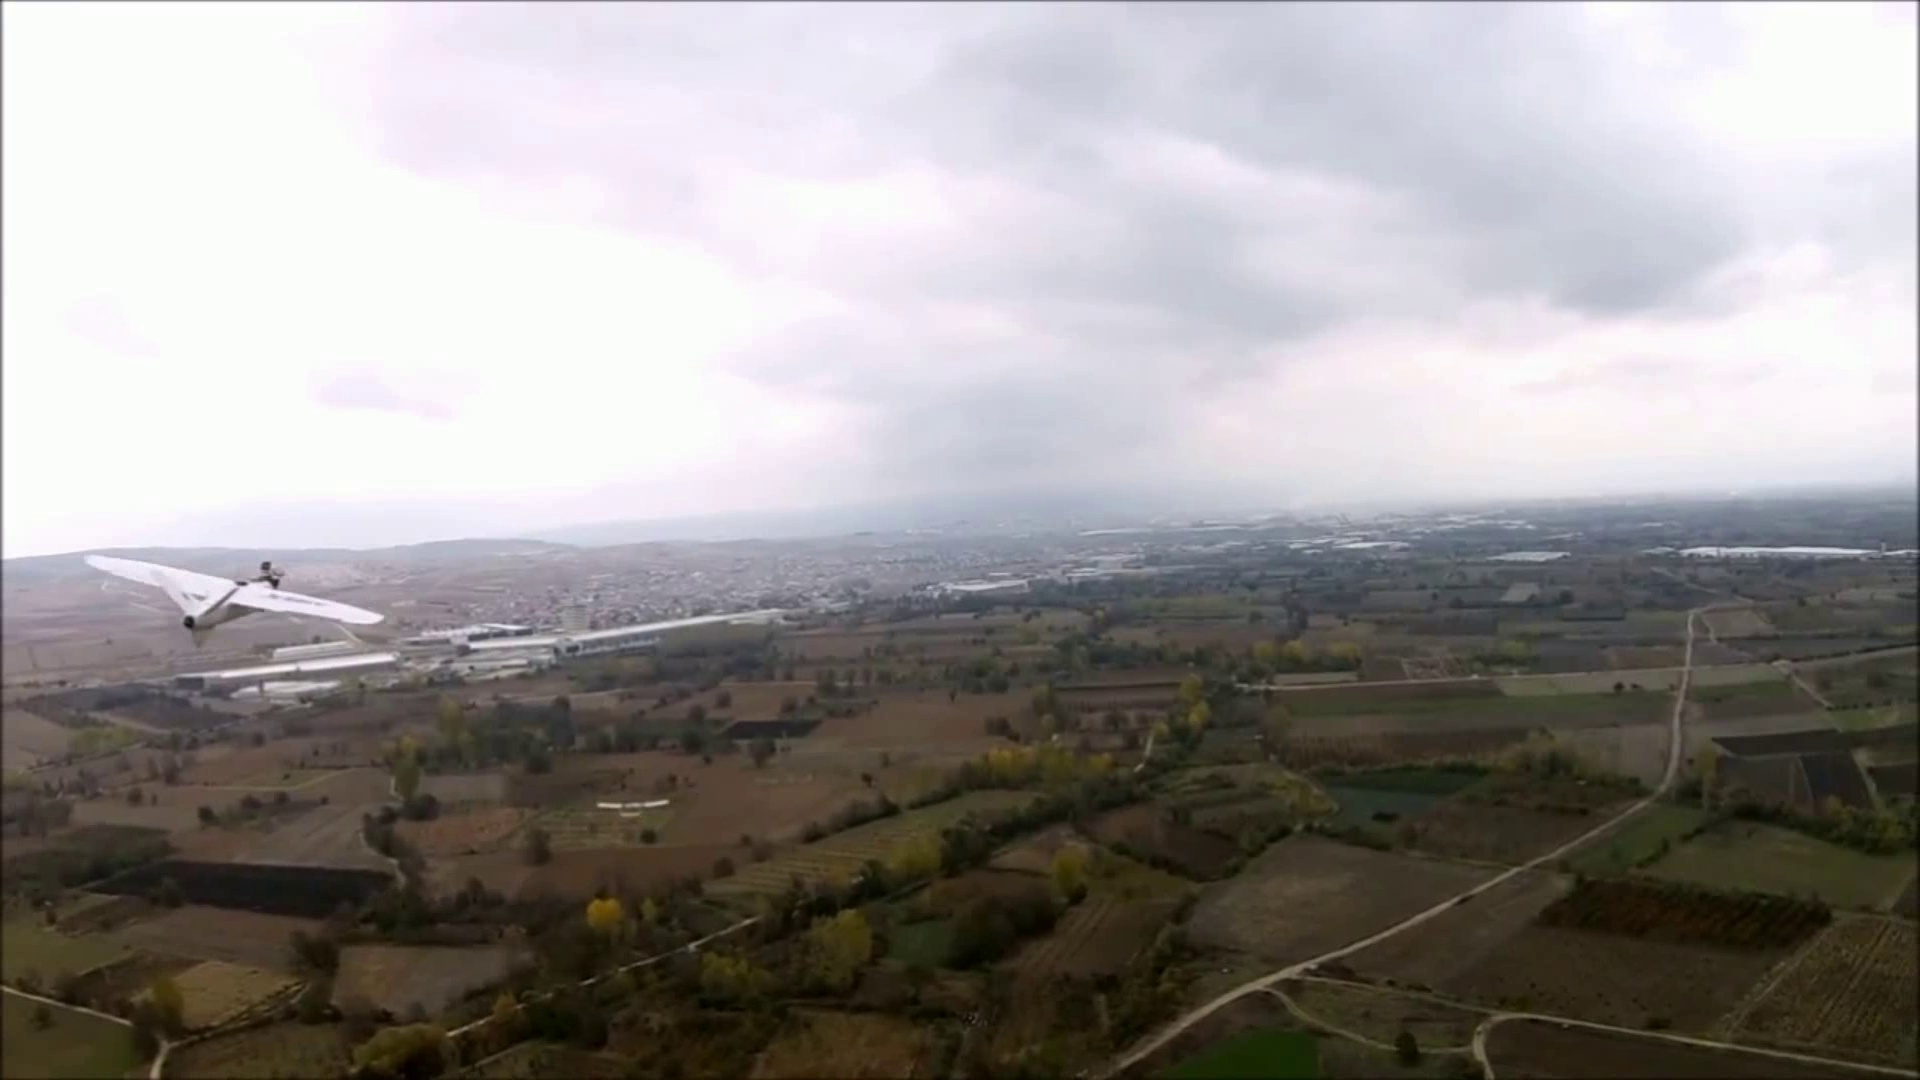airplane: (81, 553, 390, 639)
